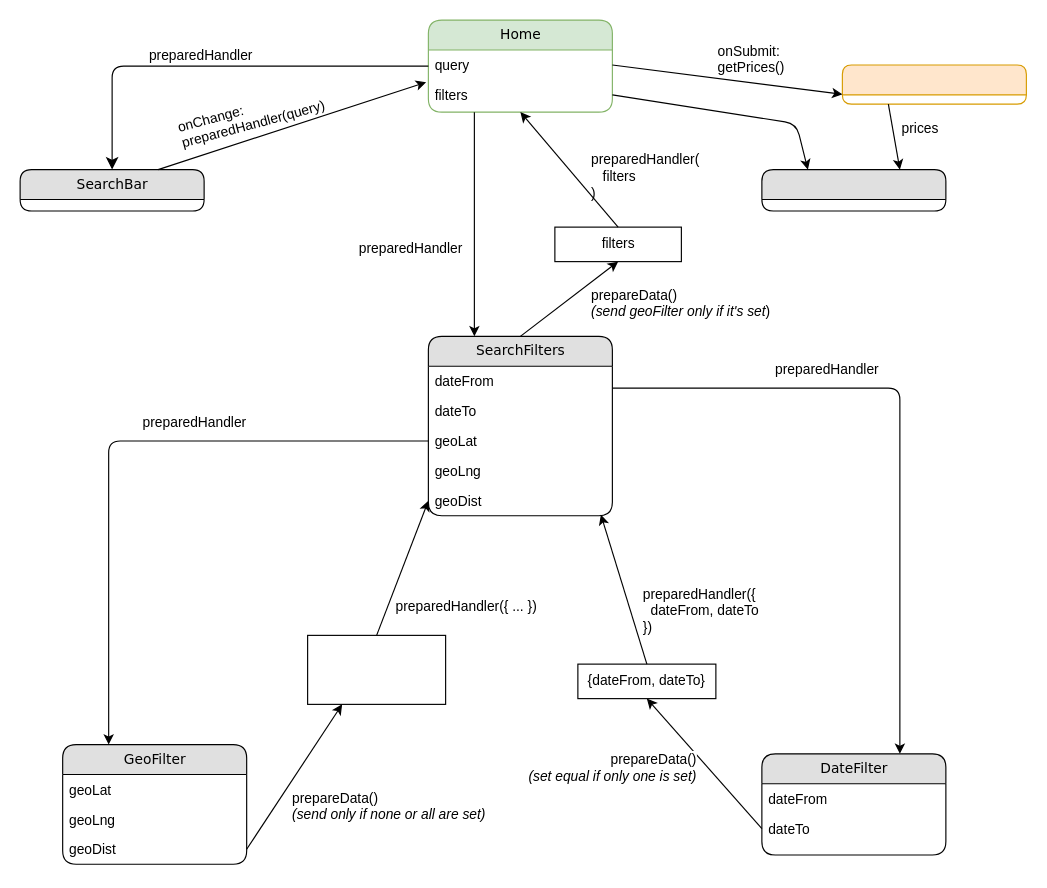
The diagram is 1047 pixels wide and 888 high, and some of its shapes have lost their labels. Here are the shapes that lost their labels. From the top down, the centre of each, then its label:
the point at 933,84: PriceStore
the point at 853,189: SearchResults
the point at 376,669: {geoLat, geoLng, geoDist}
